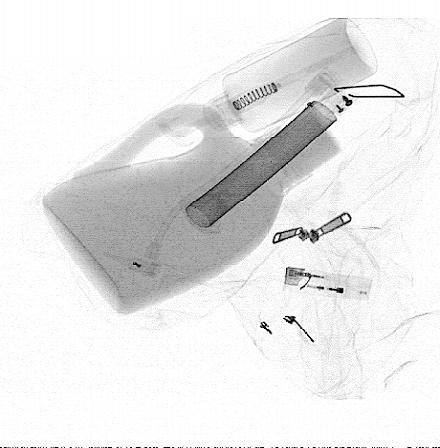Lighter: (284, 267, 373, 301)
